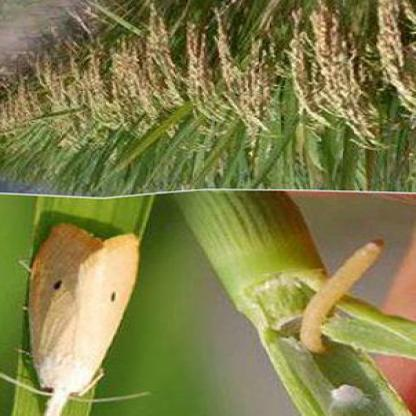stem-borer: (0, 219, 144, 416)
